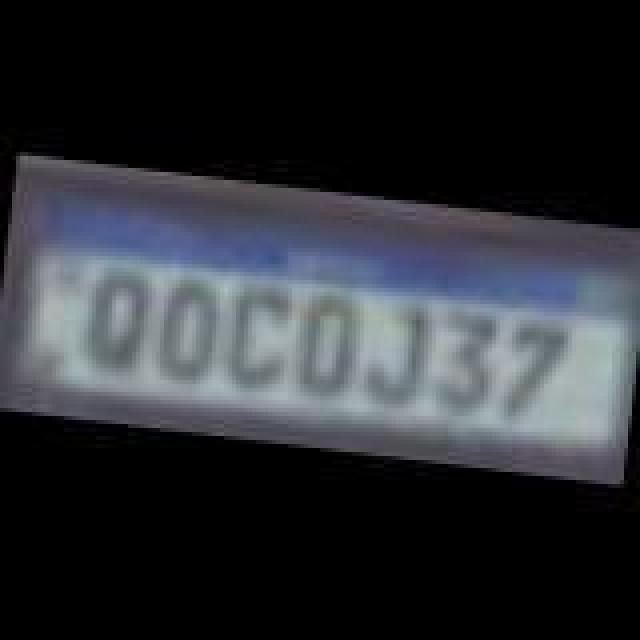3: (424, 298, 504, 422)
7: (500, 310, 572, 426)
C: (220, 280, 300, 392)
D: (296, 292, 360, 396)
J: (362, 298, 438, 414)
O: (158, 270, 226, 386)
Q: (84, 266, 148, 374)
